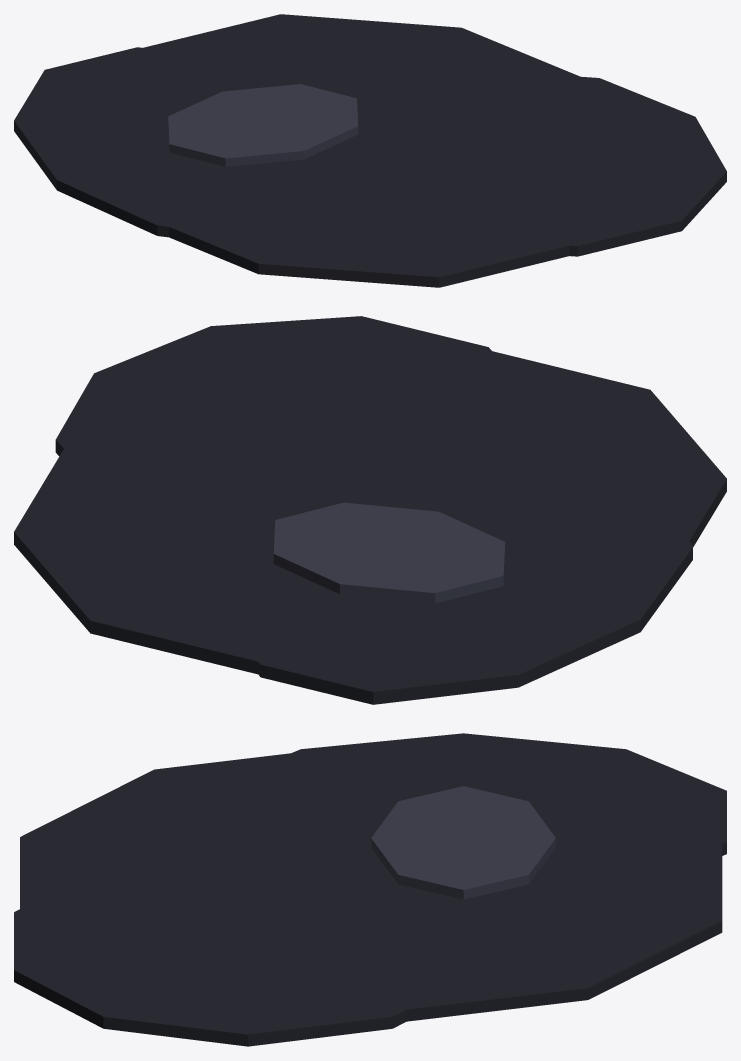
File: env_r7_oil_stain.glb
The picture shows the model from 3 angles, top to bottom: view 1: azimuth 30°, elevation 25°; view 2: azimuth 150°, elevation 25°; view 3: azimuth 270°, elevation 25°; orthographic projection. The views are drawn at different scales.
Parts seen in each view (by area): view 1: env_r7_oil_stain; view 2: env_r7_oil_stain; view 3: env_r7_oil_stain.
Part boxes in pixels (x1,y1,x2,y2): env_r7_oil_stain: (14, 14, 726, 287); env_r7_oil_stain: (14, 316, 726, 704); env_r7_oil_stain: (14, 733, 726, 1046).
Bounding box in the file's own units: 3 × 0.1 × 3.
Materials: 1 (1 with a texture image).
